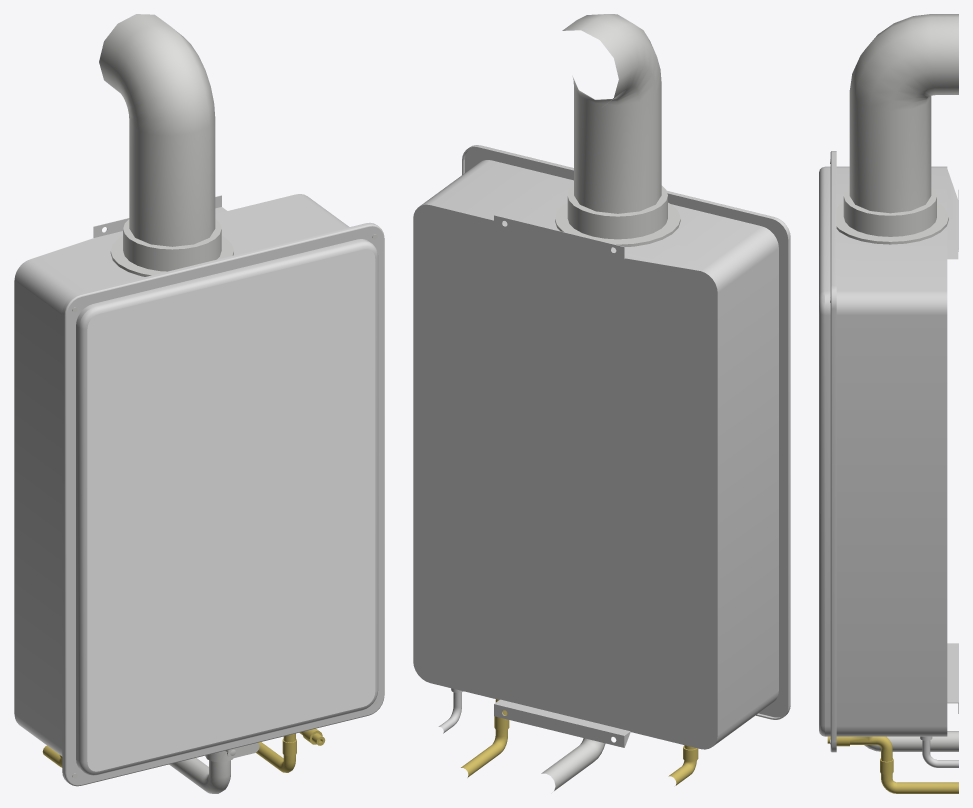
Rendered from Gyeser Small.glb.
The picture shows the model from 3 angles, left to right: view 1: azimuth 30°, elevation 25°; view 2: azimuth 150°, elevation 25°; view 3: azimuth 270°, elevation 25°; orthographic projection. The views are drawn at different scales.
Visible parts, largest first — view 1: Mesh1 Model; view 2: Mesh1 Model; view 3: Mesh1 Model.
Part boxes in pixels (<box>): Mesh1 Model: <box>14,14,384,793</box>; Mesh1 Model: <box>413,14,790,790</box>; Mesh1 Model: <box>819,14,958,793</box>.
Bounding box in the file's own units: 15 × 34.17 × 6.
